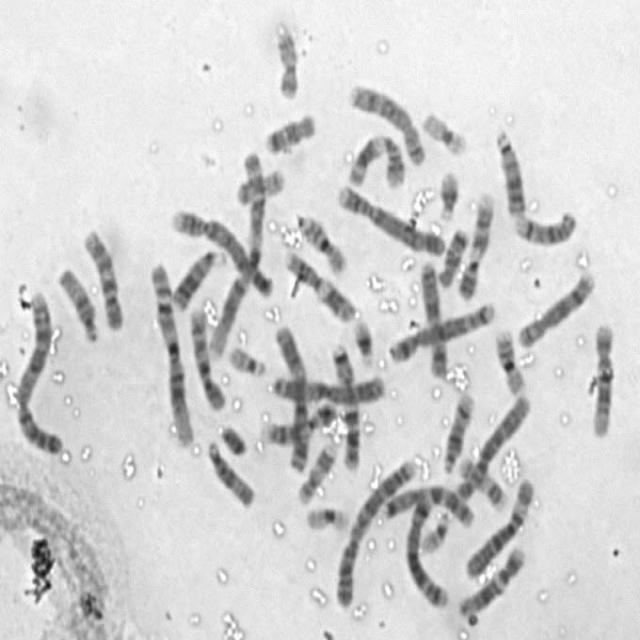A1: (204, 144, 266, 360), (146, 256, 196, 449)
A2: (332, 450, 423, 610), (11, 286, 67, 458)
A3: (270, 318, 313, 475), (268, 367, 390, 408)
B4: (168, 202, 278, 300), (332, 177, 448, 258)
B5: (386, 294, 498, 364), (401, 488, 451, 610)
C10: (79, 222, 126, 333), (184, 299, 228, 413)
C11: (280, 244, 358, 324), (343, 127, 408, 191)
C12: (454, 539, 528, 619), (586, 316, 616, 440)
C6: (452, 388, 534, 503), (462, 470, 538, 580)
C7: (325, 334, 362, 473), (378, 478, 478, 529)
C8: (344, 78, 428, 168), (513, 264, 597, 350)
C9: (454, 186, 497, 302), (259, 397, 339, 448)
D13: (169, 242, 229, 312), (491, 122, 528, 220)
D14: (439, 386, 477, 476), (510, 204, 580, 248)
D15: (203, 434, 258, 510), (54, 261, 102, 344)
E16: (293, 207, 350, 276), (491, 323, 528, 397)
E17: (455, 449, 511, 513), (294, 436, 340, 506)
E18: (261, 106, 318, 156), (434, 222, 470, 290)
F19: (418, 105, 470, 158), (301, 499, 352, 534)
F20: (270, 16, 301, 101), (232, 162, 288, 207)
G21: (434, 163, 461, 222), (350, 313, 378, 368)
G22: (417, 504, 453, 555), (225, 339, 269, 378)
X: (416, 253, 452, 381)
Y: (218, 419, 250, 457)
